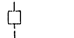Cable Termination Box: (4, 7, 25, 27)
